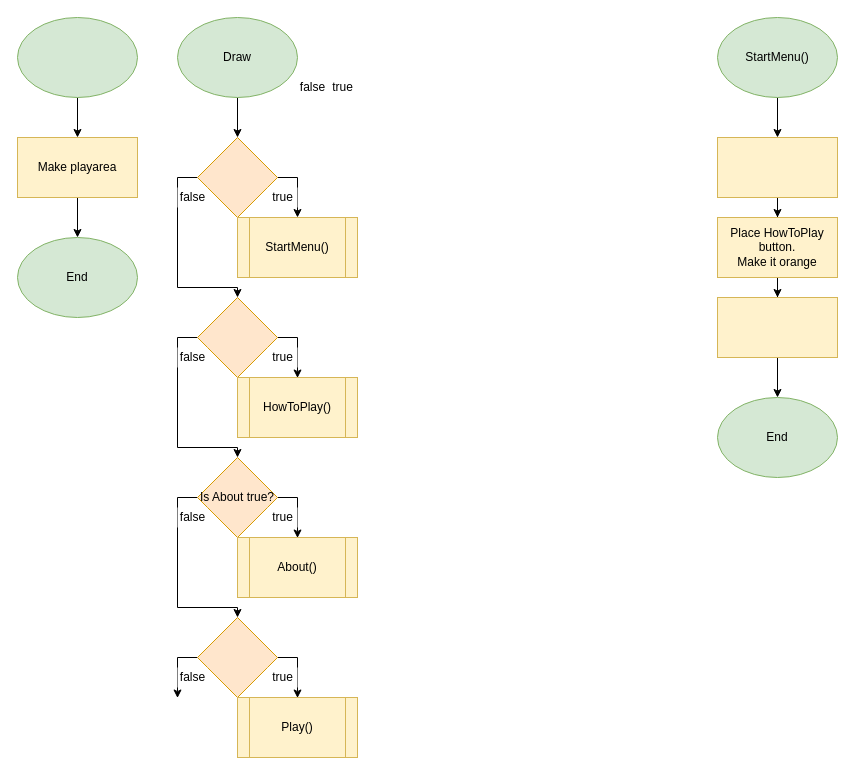
Image size: 855x775. Some labels were removed from this diagram. Each missing label, with the centre of its shape:
"Is HowToPlay true?" goes at point 237,337.
"Is Play true?" goes at point 237,657.
"Is StartMenu true?" goes at point 237,177.
"Place About button. Make it orange" goes at point 777,327.
"Place Play button. Make it red" goes at point 777,167.
"Setup" goes at point 77,57.
